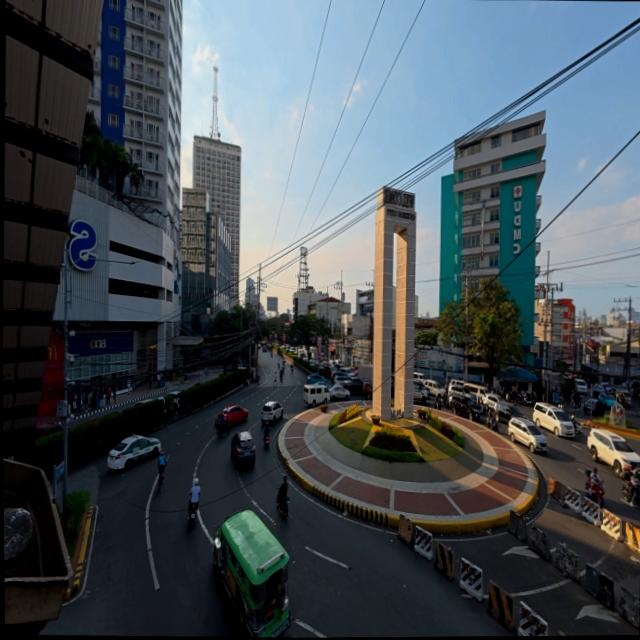Jeepneys: (204, 505, 287, 638)
car: (107, 433, 165, 472), (226, 428, 255, 467), (212, 406, 248, 437), (260, 401, 285, 425)
vans: (505, 418, 547, 454)
